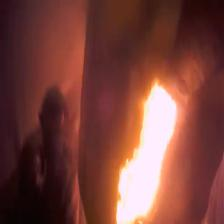fire: (116, 81, 176, 224)
